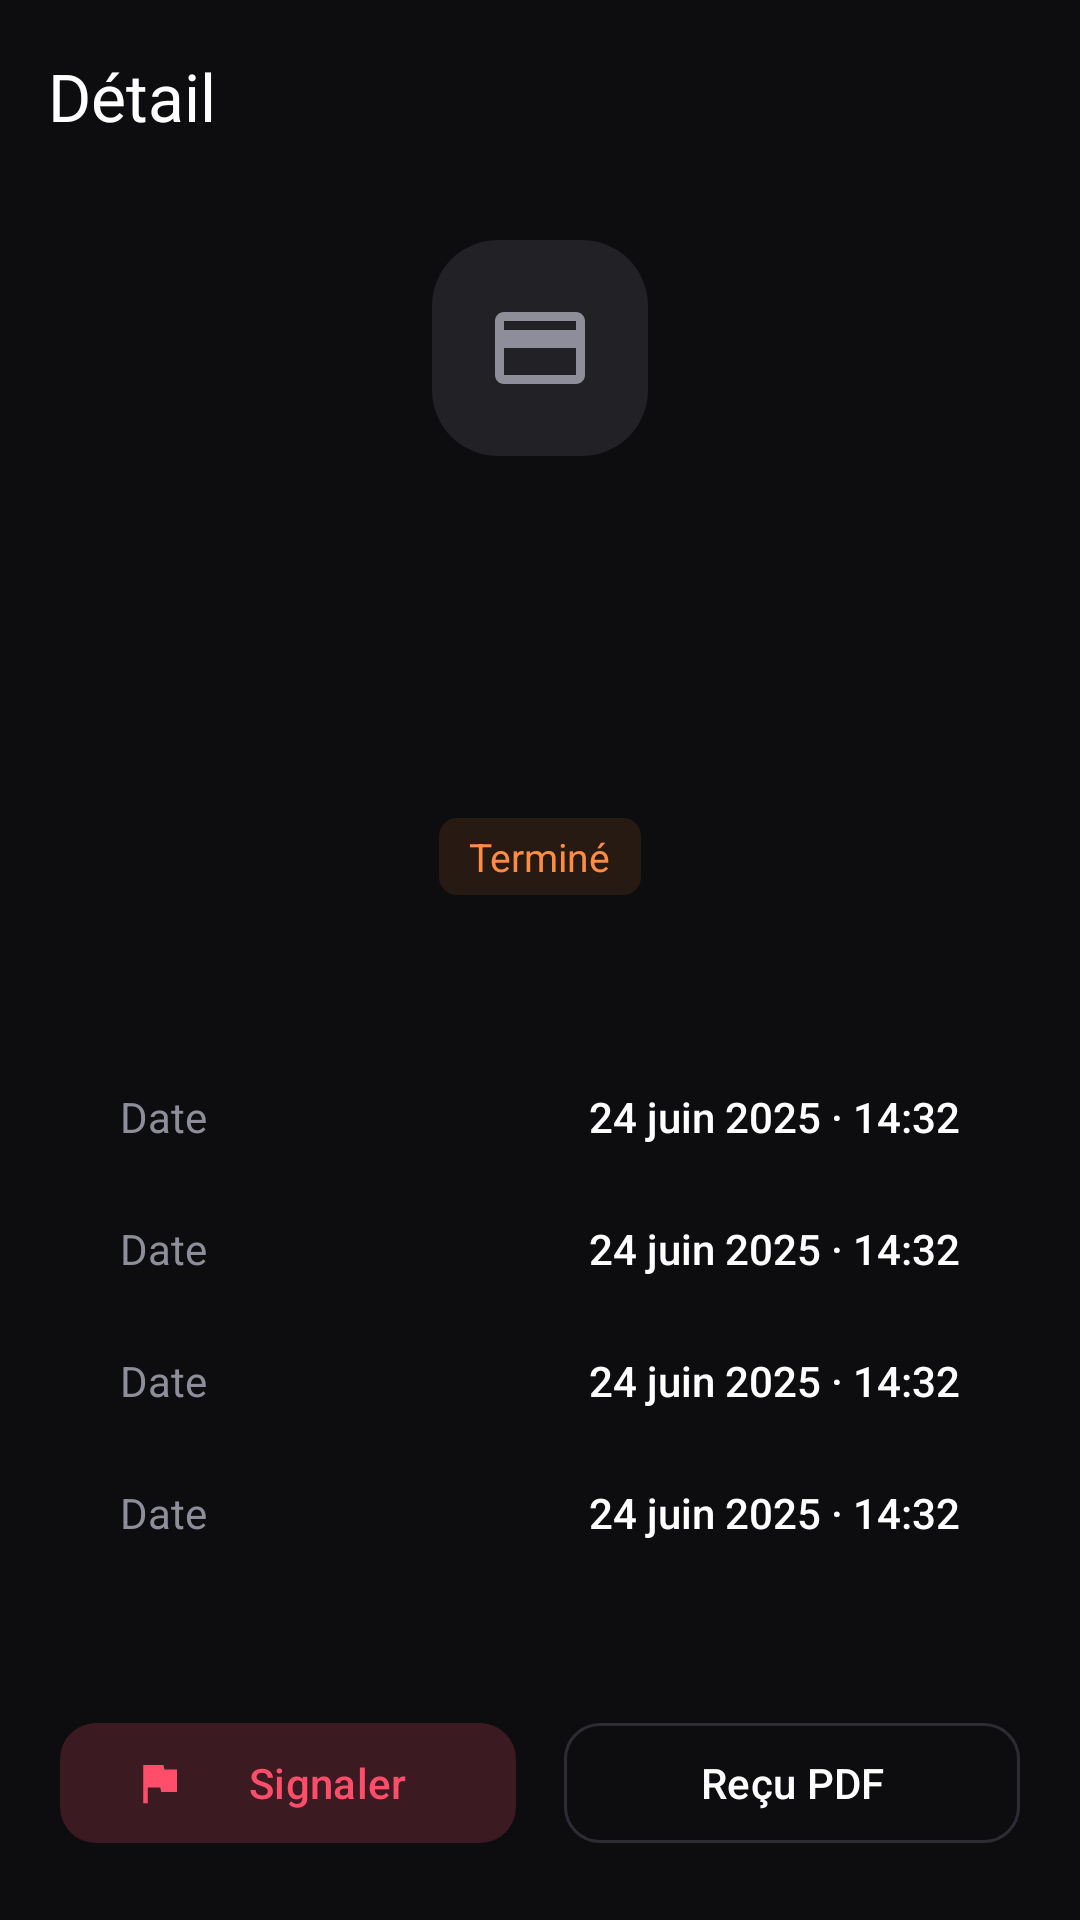

Where icons sit on this 1080 × 1920 app screen, as BBox(x1, y1, x2, y2):
card: BBox(495, 312, 585, 384)
